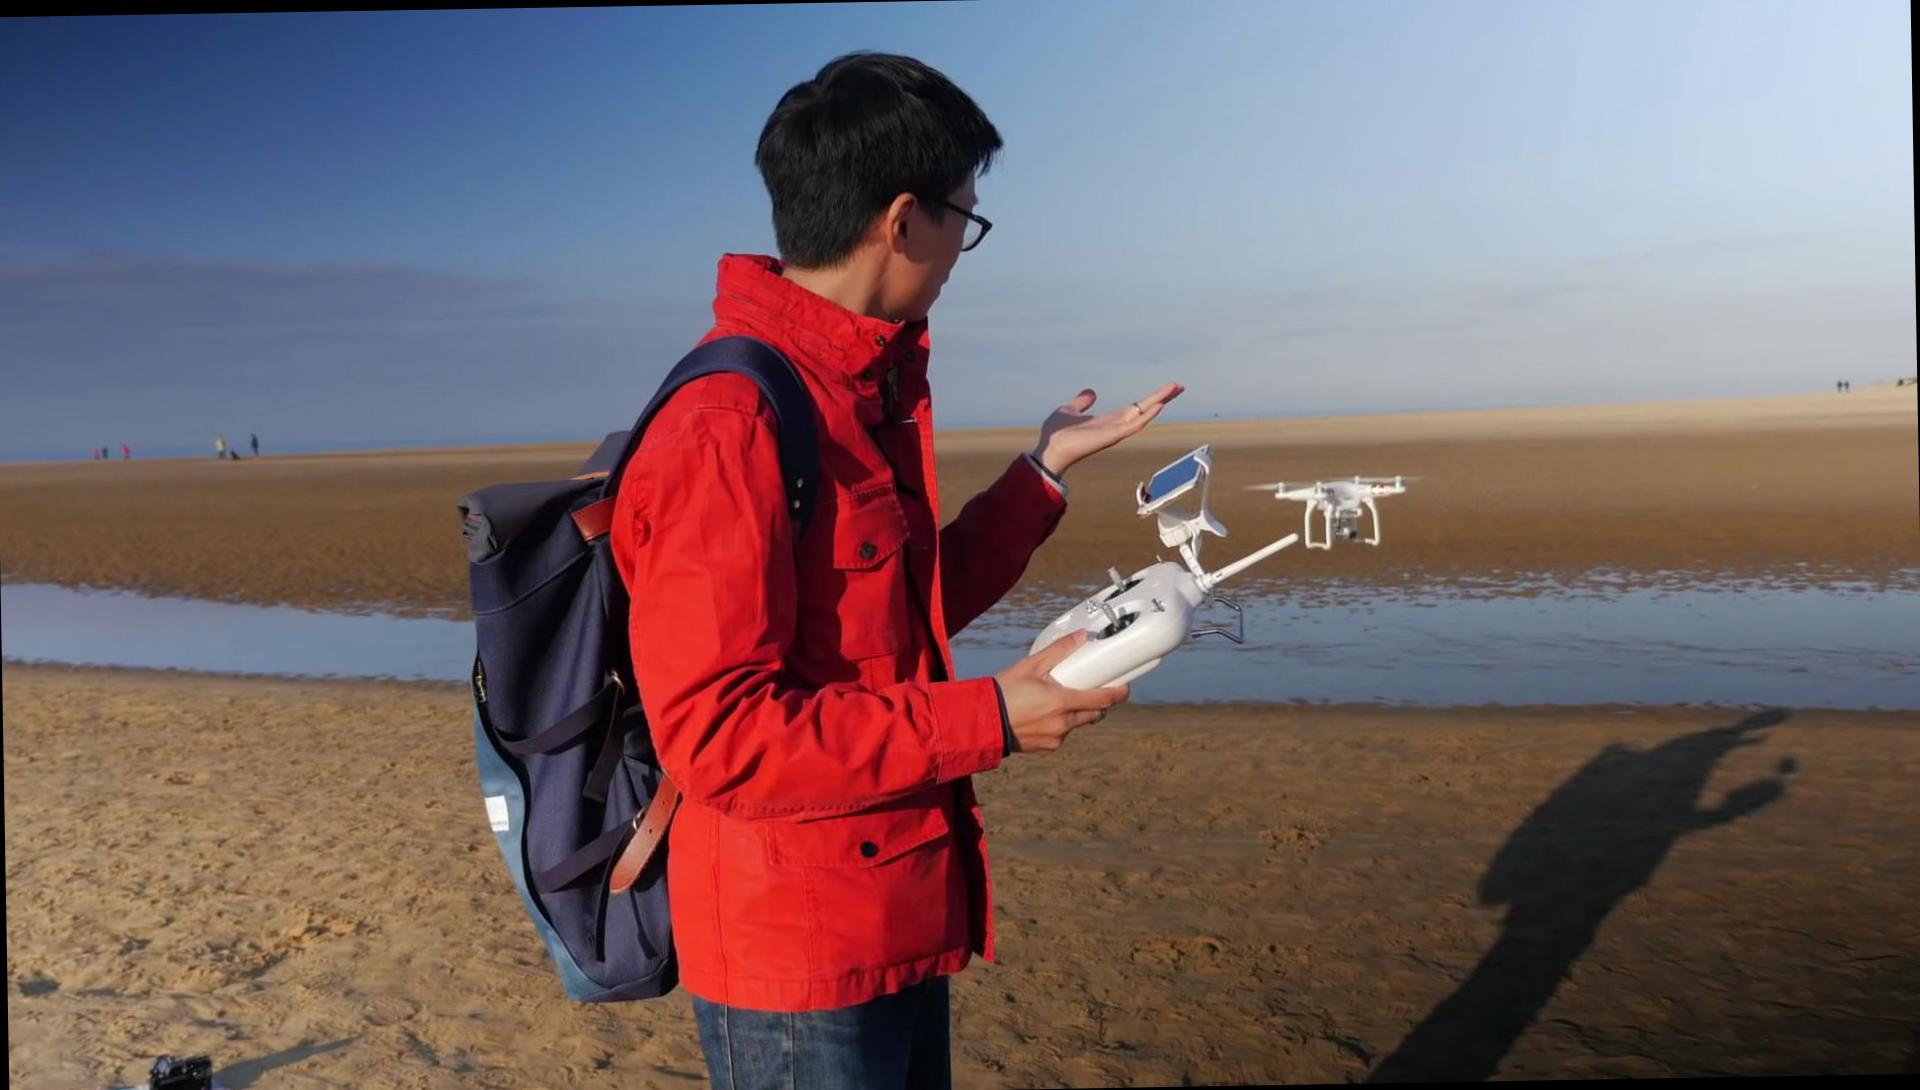drone: (1246, 464, 1431, 555)
